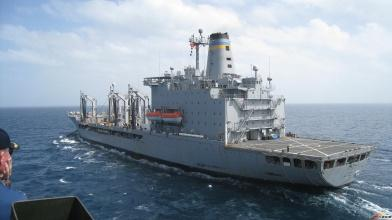warship: (69, 27, 375, 188)
